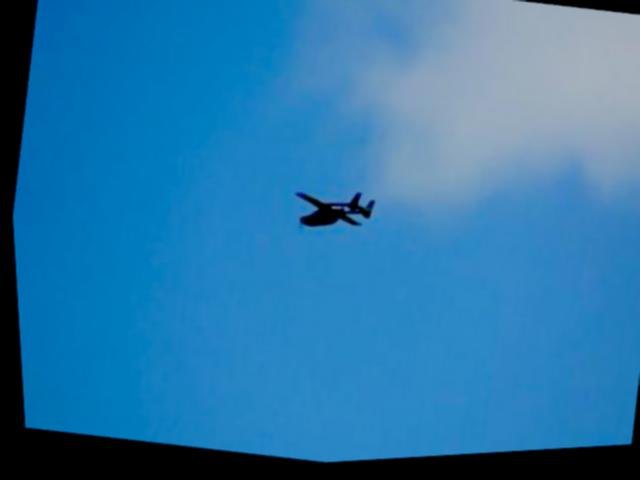uav: (283, 178, 378, 251)
